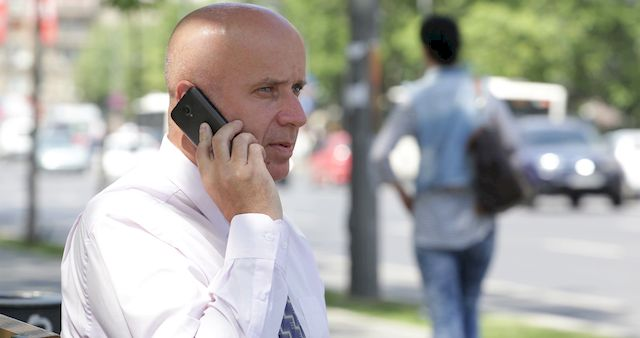phone: (168, 96, 229, 151)
talk: (172, 70, 310, 218)
